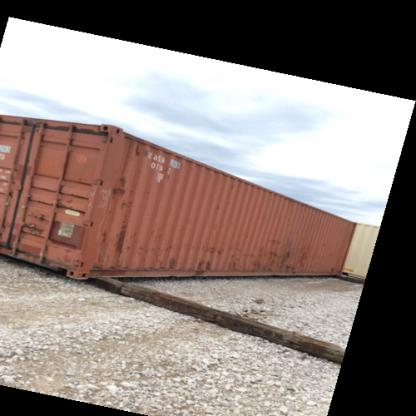Damage: (111, 207, 139, 257), (250, 243, 287, 270), (100, 179, 138, 205), (226, 245, 252, 279), (191, 242, 219, 270), (154, 246, 184, 268), (284, 249, 312, 272), (54, 232, 74, 259)
